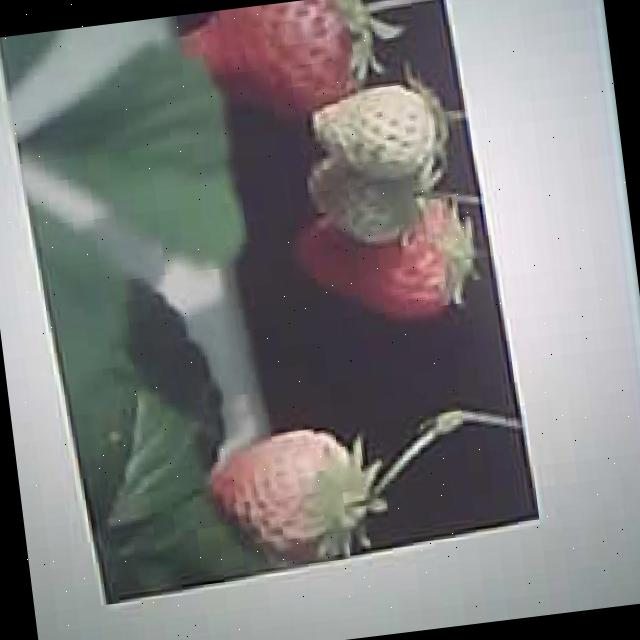strawberry: (172, 0, 374, 126)
